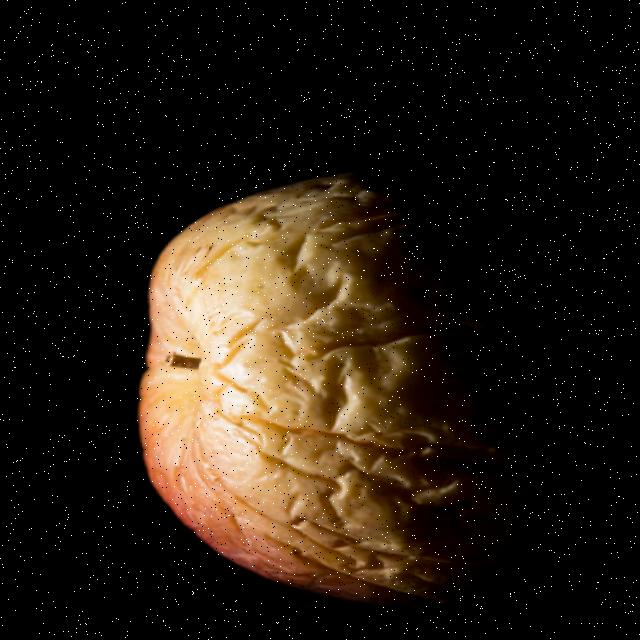overripe: (127, 163, 512, 612)
